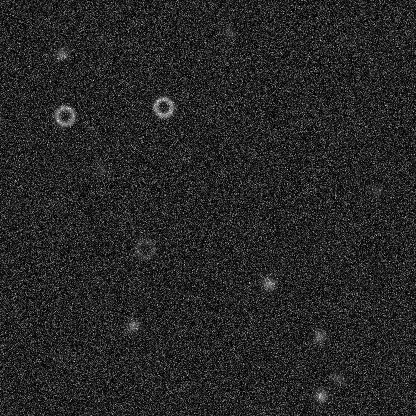Ring: (52, 103, 76, 127), (133, 237, 157, 261), (151, 94, 175, 118)
Spot: (313, 387, 329, 403), (260, 275, 276, 291), (125, 317, 141, 333), (311, 328, 327, 344), (53, 45, 69, 61), (92, 162, 108, 178), (368, 182, 384, 198), (221, 24, 237, 40), (329, 369, 345, 385)
